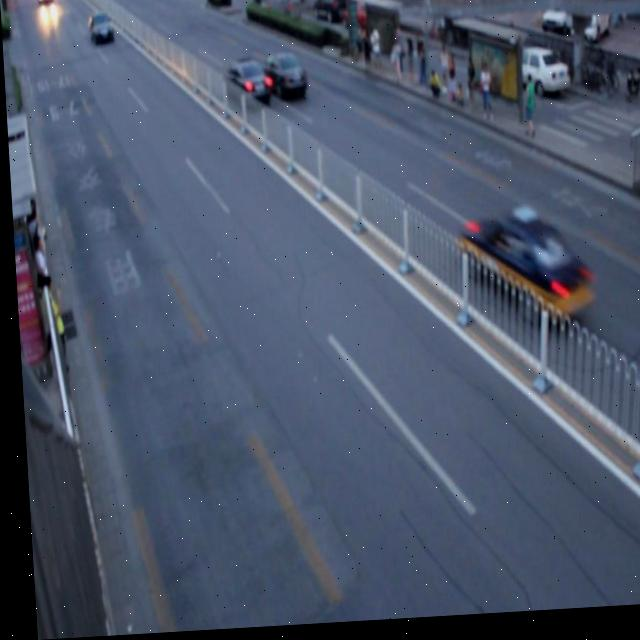car: (452, 208, 591, 340), (217, 60, 270, 113), (257, 54, 306, 107)
